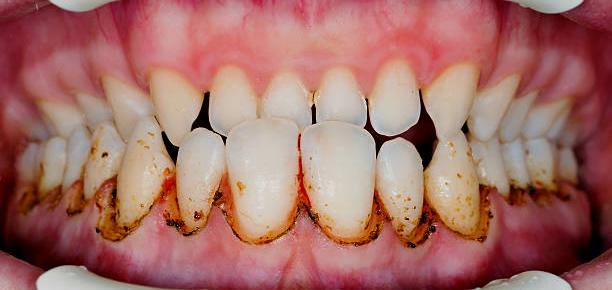Calculus: (217, 130, 302, 241), (420, 132, 495, 235), (312, 142, 382, 248), (160, 145, 232, 226), (375, 160, 435, 256), (108, 146, 175, 228), (58, 135, 105, 207), (78, 143, 123, 205), (34, 137, 75, 203)
